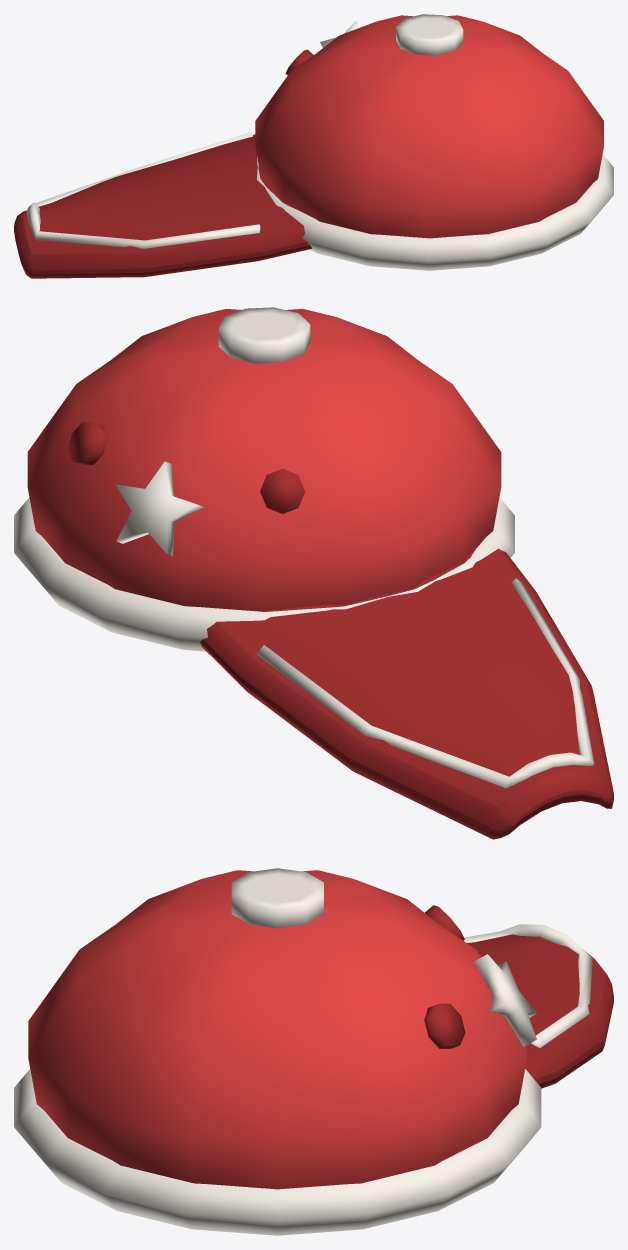
The model's file is chapeau_casquette.fbx.
3 views of the same model, one above another, from view 1: azimuth 30°, elevation 25°; view 2: azimuth 150°, elevation 25°; view 3: azimuth 270°, elevation 25° (orthographic). The views are drawn at different scales.
Visible parts, largest first — view 1: Anim_Casquette; view 2: Anim_Casquette; view 3: Anim_Casquette.
Boxes of the visible parts, x1,y1,x2,y2 form: Anim_Casquette: (14,14,613,278); Anim_Casquette: (14,307,613,839); Anim_Casquette: (14,868,613,1235).
Size of the model in its own units: 1.17 by 0.5068 by 0.8648.
